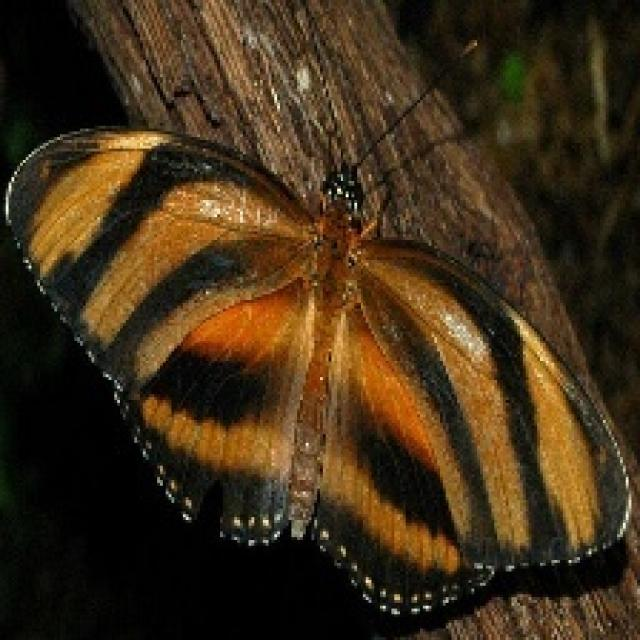butterfly: (0, 74, 634, 617)
